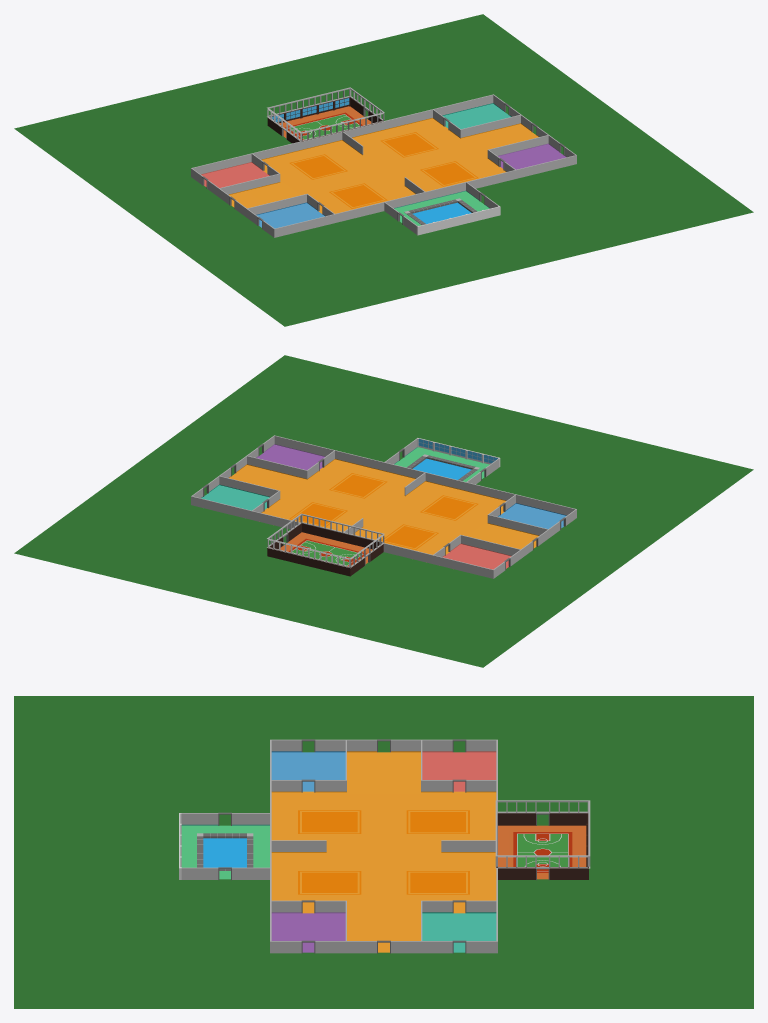
File: khung nha.fbx
3 views of the same model, one above another, from view 1: azimuth 30°, elevation 25°; view 2: azimuth 150°, elevation 25°; view 3: azimuth 270°, elevation 25° (orthographic). The views are drawn at different scales.
Parts seen in each view (by area): view 1: khungnha; view 2: khungnha; view 3: khungnha.
Boxes of the visible parts, x1=… form: khungnha: x1=14, y1=14, x2=753, y2=326; khungnha: x1=14, y1=355, x2=753, y2=667; khungnha: x1=14, y1=696, x2=753, y2=1008.
Bounding box in the file's own units: 30000 × 1362 × 30000.
